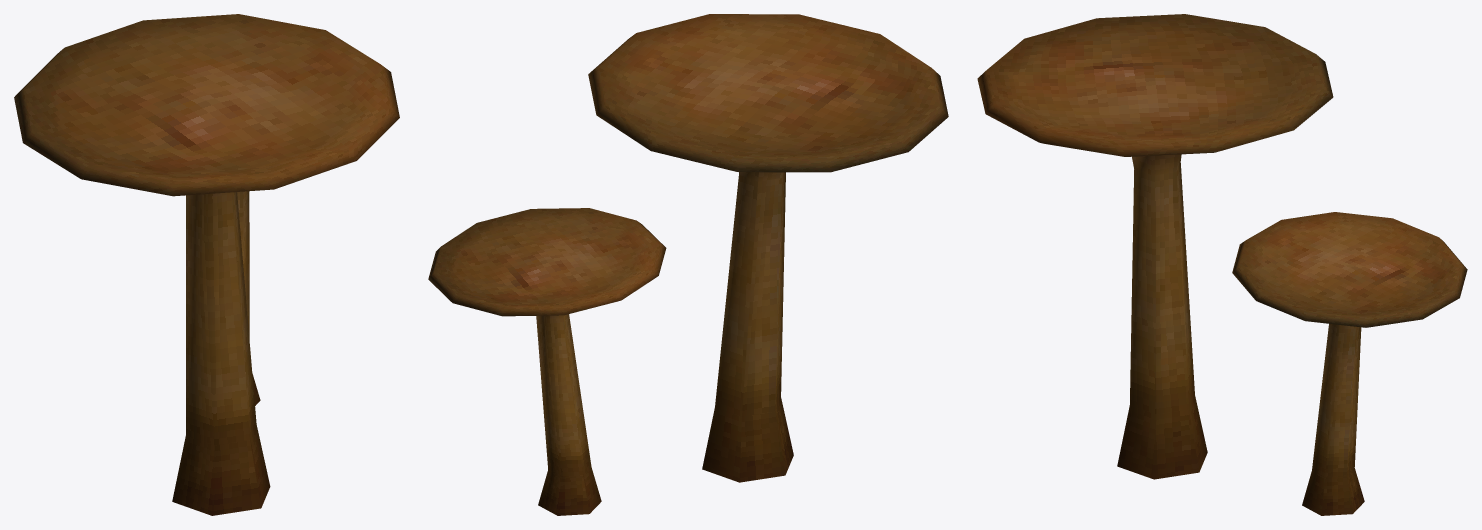
Rendered from mushroom_n_3_1.glb.
The picture shows the model from 3 angles, left to right: view 1: azimuth 30°, elevation 25°; view 2: azimuth 150°, elevation 25°; view 3: azimuth 270°, elevation 25°; orthographic projection. The views are drawn at different scales.
Visible parts, largest first — view 1: mushroom_n_3_1; view 2: mushroom_n_3_1; view 3: mushroom_n_3_1.
Boxes of the visible parts, x1=… form: mushroom_n_3_1: x1=14, y1=14, x2=399, y2=515; mushroom_n_3_1: x1=428, y1=14, x2=948, y2=515; mushroom_n_3_1: x1=977, y1=14, x2=1467, y2=515.
Bounding box in the file's own units: 0.067 × 0.0644 × 0.0754.
Materials: 1 (1 with a texture image).
